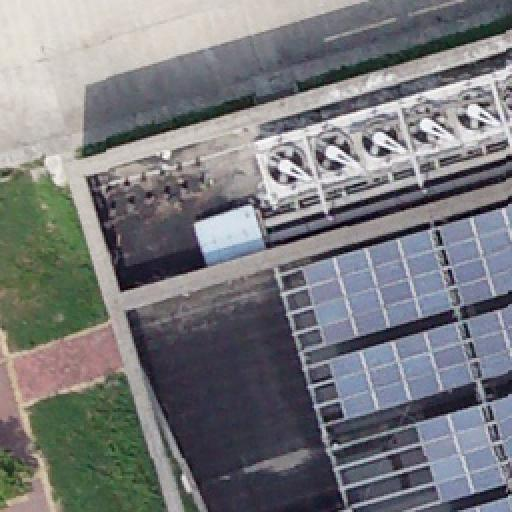solar-panel: (305, 230, 455, 346), (331, 320, 477, 420), (416, 401, 508, 503), (436, 205, 512, 307), (464, 303, 512, 377), (488, 394, 512, 474), (468, 494, 512, 510)
